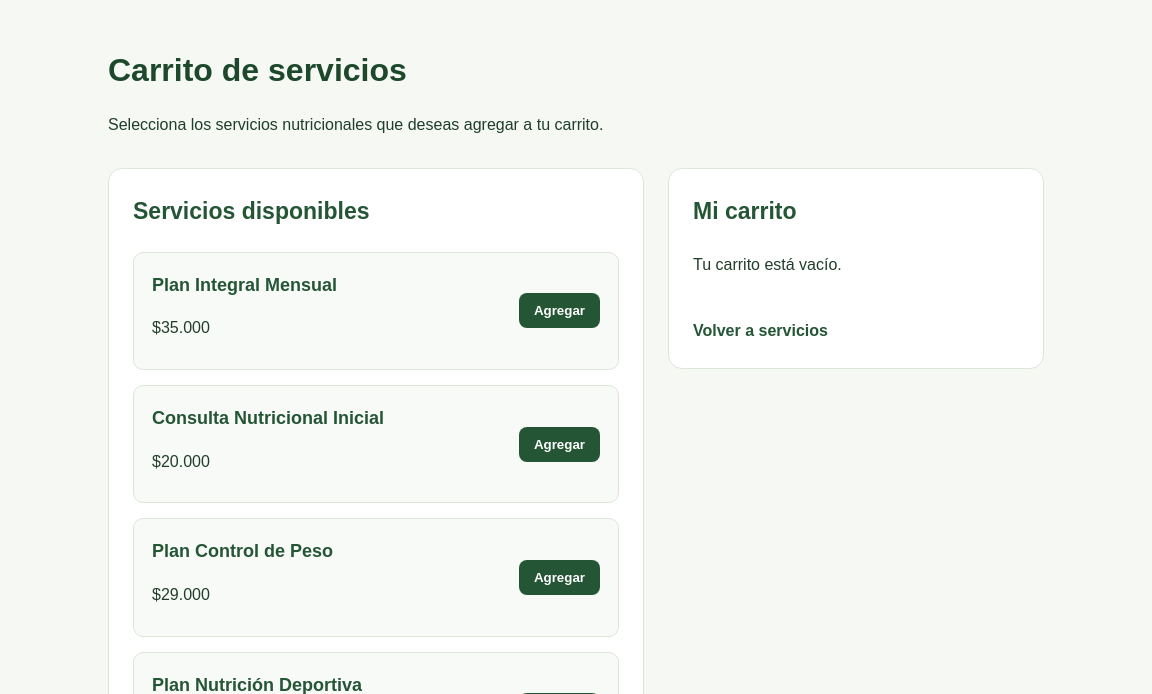
Carrito de servicios NutriVida › Vacía todos los servicios del carrito
This screenshot has width=1152, height=694.
Click the button "Agregar" in the row of "$35.000": (559, 311) x1=519 y1=293 x2=600 y2=328
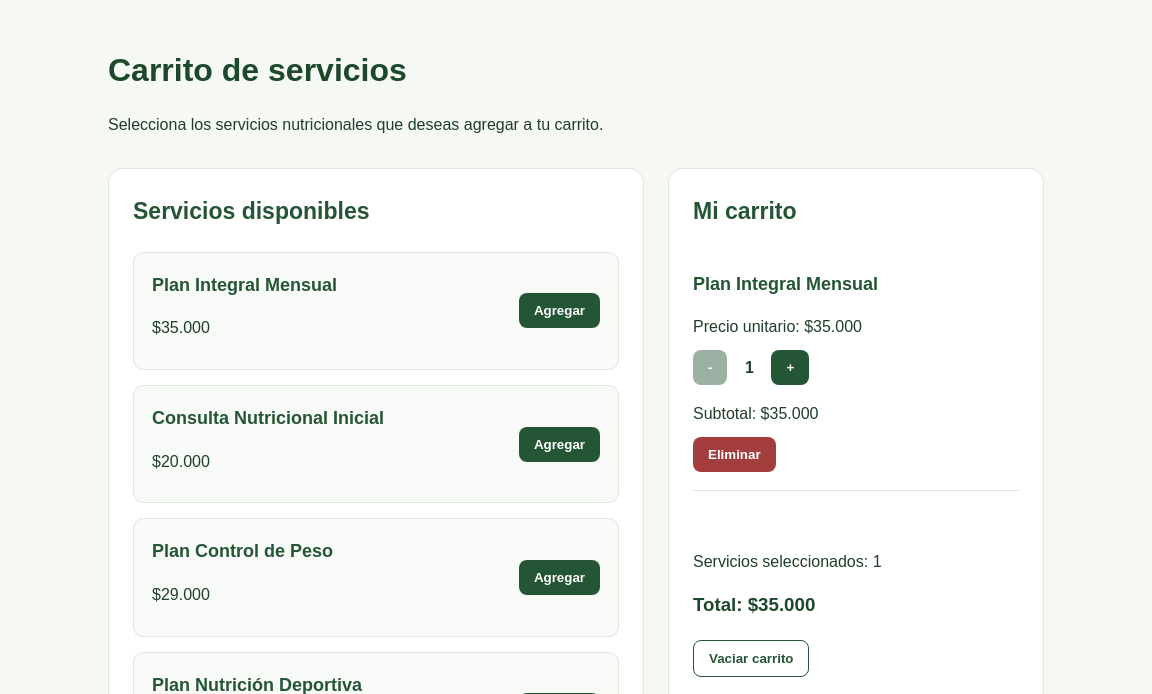
Click the button "Vaciar carrito": (751, 659) x1=693 y1=640 x2=810 y2=677
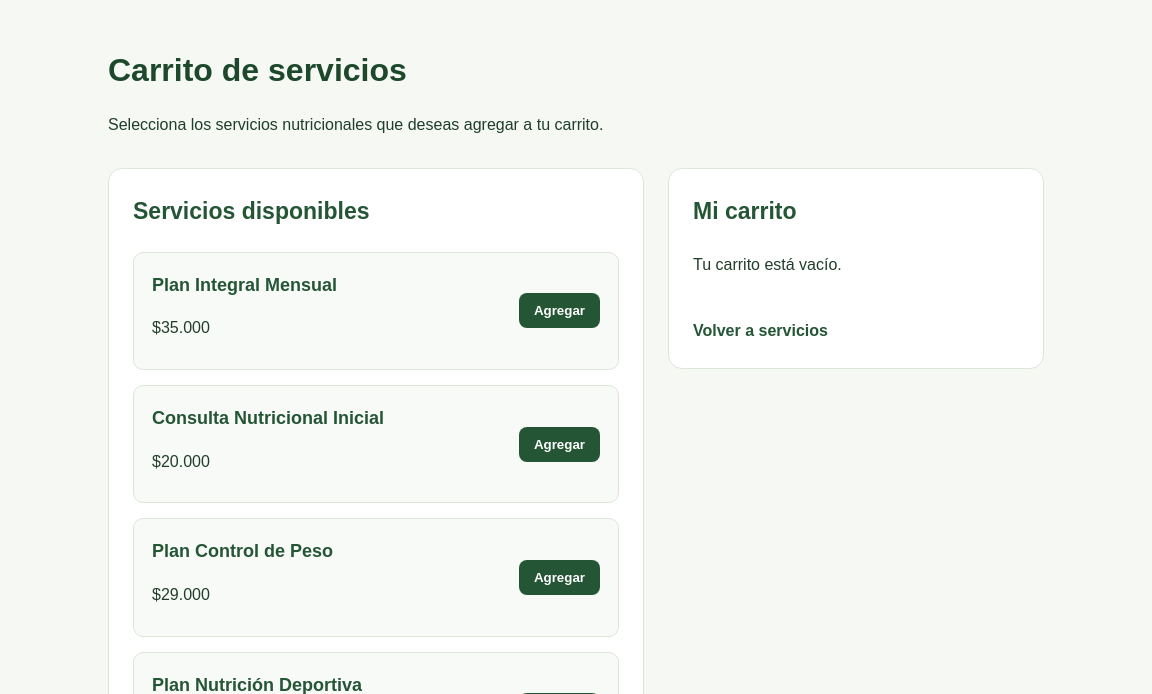
Result: the text "Tu carrito está vacío." is shown at x1=693 y1=256 x2=842 y2=273
